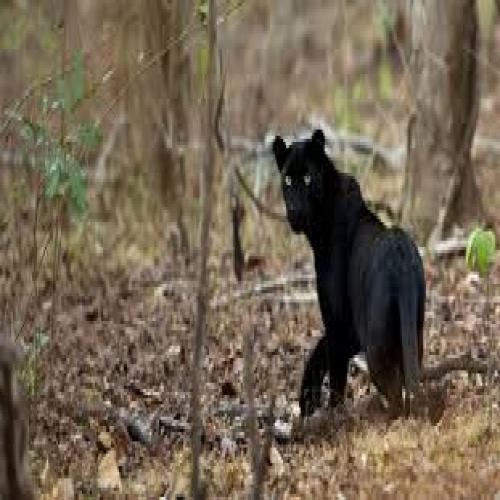panther-endangered: (272, 129, 486, 424)
